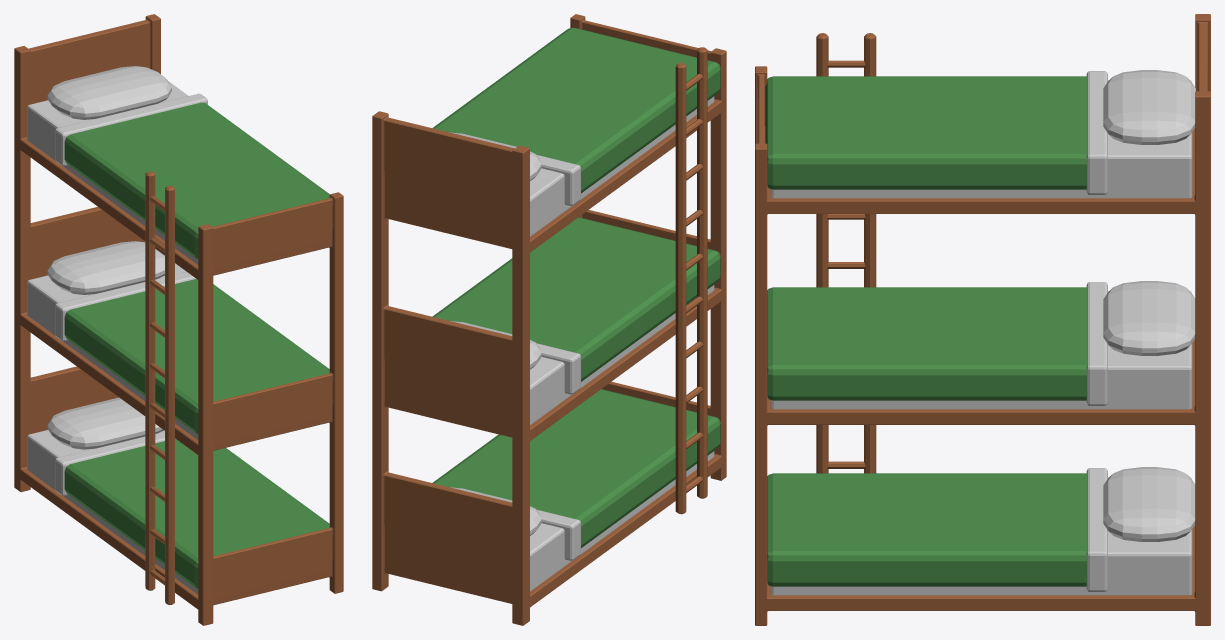
Rendered from Triple Bunk Bed.glb.
3 renders of one model, left to right at view 1: azimuth 30°, elevation 25°; view 2: azimuth 150°, elevation 25°; view 3: azimuth 270°, elevation 25°, orthographic. The views are drawn at different scales.
Parts seen in each view (by area): view 1: Triple bunk bed; view 2: Triple bunk bed; view 3: Triple bunk bed.
Boxes of the visible parts, x1,y1,x2,y2 form: Triple bunk bed: (14, 14, 343, 625); Triple bunk bed: (372, 14, 726, 625); Triple bunk bed: (755, 14, 1210, 625).
Bounding box in the file's own units: 519 × 1424 × 1110.
